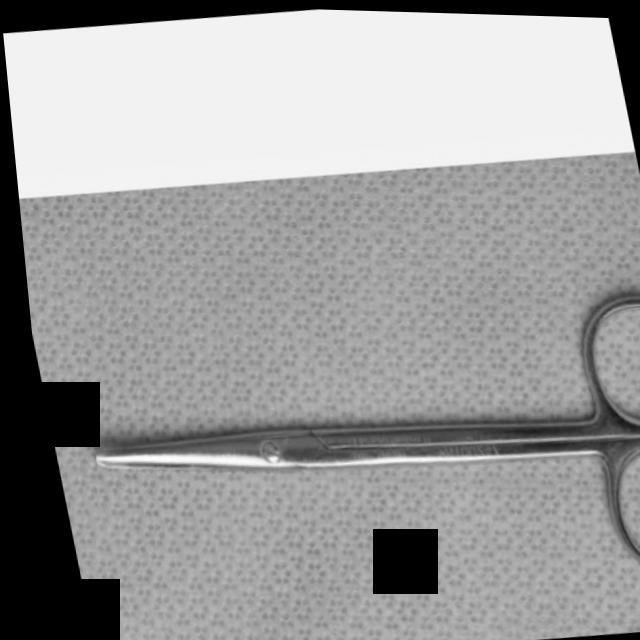Metzenbaum Sciccors: (29, 267, 640, 638)
